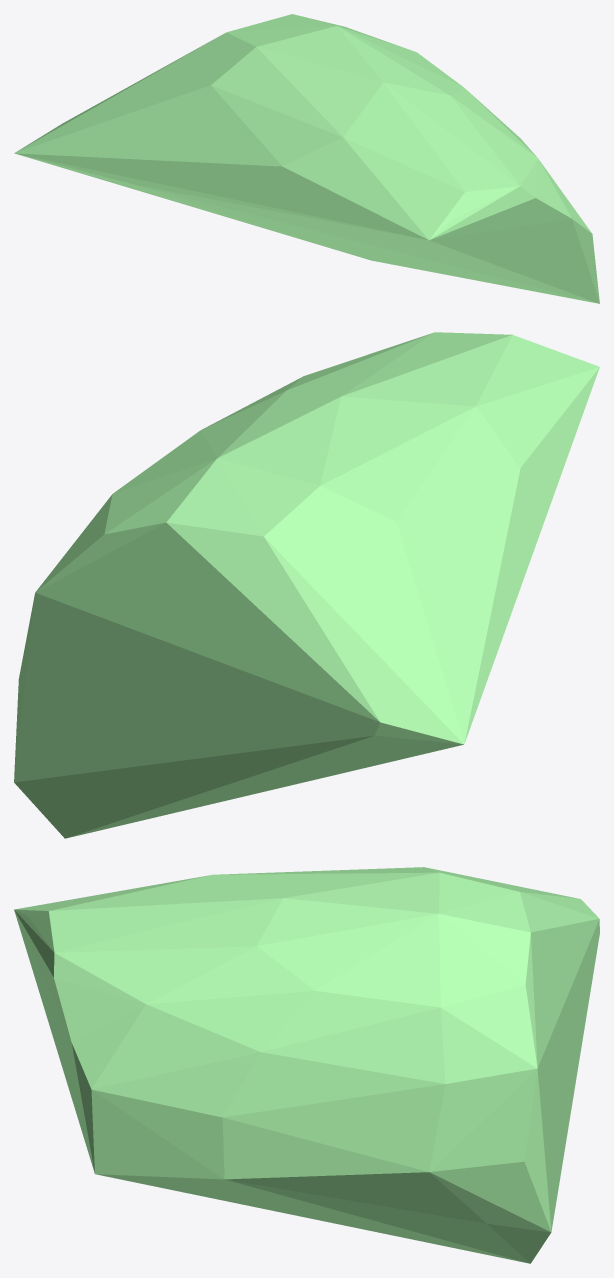
File: franka_link7resp_coll_8.dae
3 views of the same model, one above another, from view 1: azimuth 30°, elevation 25°; view 2: azimuth 150°, elevation 25°; view 3: azimuth 270°, elevation 25° (orthographic). The views are drawn at different scales.
Parts seen in each view (by area): view 1: node; view 2: node; view 3: node.
Part boxes in pixels (<box>): node: <box>14,14,599,303</box>; node: <box>14,332,599,838</box>; node: <box>14,867,599,1263</box>.
Bounding box in the file's own units: 0.1 × 0.0698 × 0.119.
